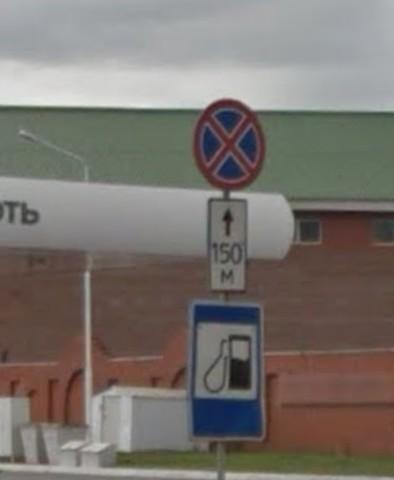No Parking: (192, 98, 268, 190)
